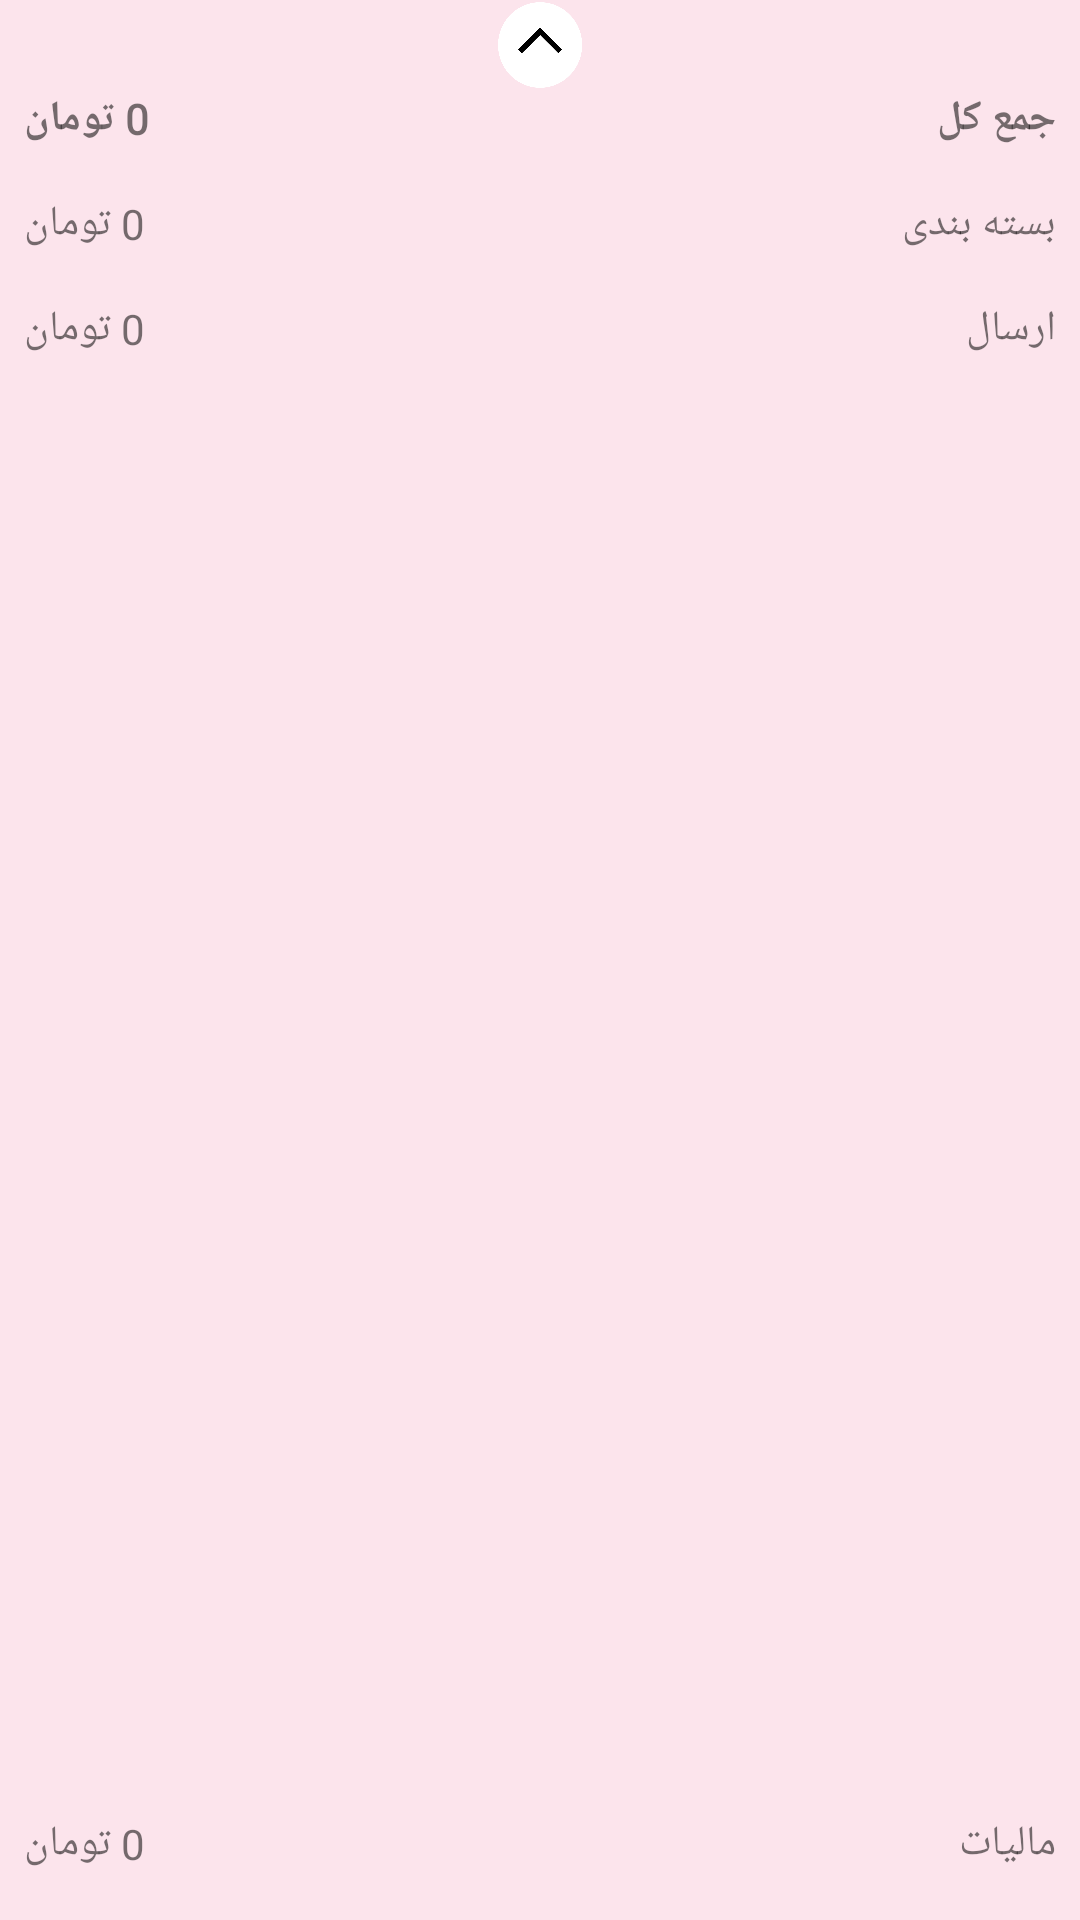

Screen size 1080x1920. Icon name, then its box in pixels as rect(x1, y1, x2, y2):
arrow up: rect(498, 2, 582, 88)
